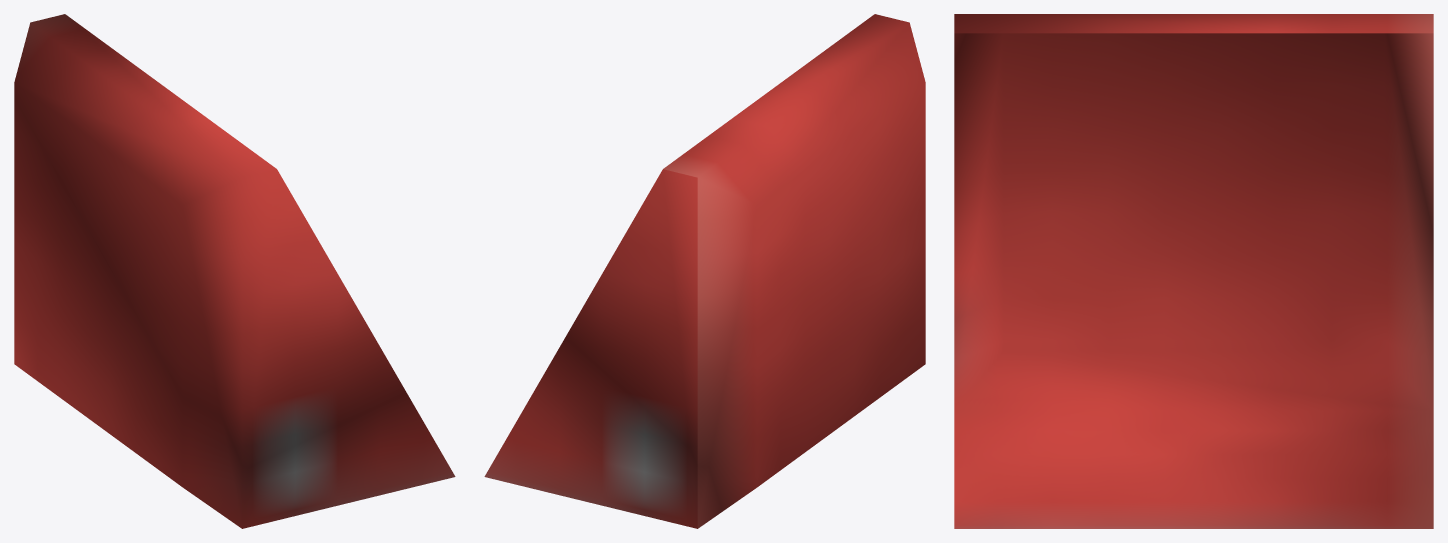
Rendered from BaseSideGun.FBX.
The picture shows the model from 3 angles, left to right: view 1: azimuth 30°, elevation 25°; view 2: azimuth 150°, elevation 25°; view 3: azimuth 270°, elevation 25°; orthographic projection. The views are drawn at different scales.
Parts seen in each view (by area): view 1: BaseSideGun; view 2: BaseSideGun; view 3: BaseSideGun.
Part boxes in pixels (<box>): BaseSideGun: <box>14,14,455,528</box>; BaseSideGun: <box>484,14,925,528</box>; BaseSideGun: <box>954,14,1433,528</box>.
Bounding box in the file's own units: 9.63 × 12.87 × 14.07.
1 material, 1 textured.
